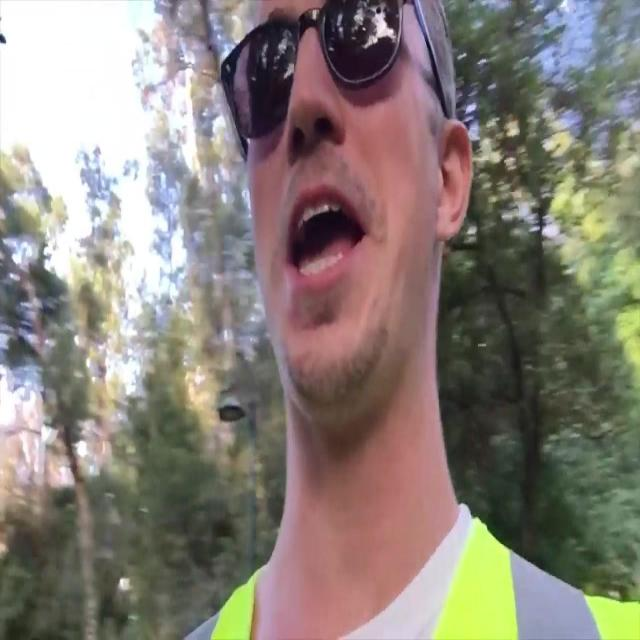Reflective-Jacket: (201, 508, 539, 640)
